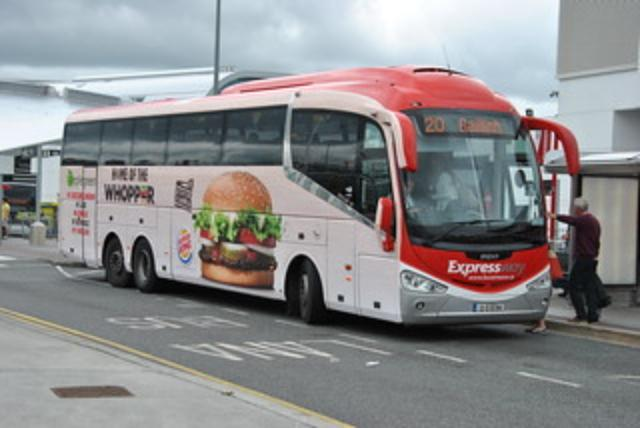bus: (54, 66, 548, 328)
